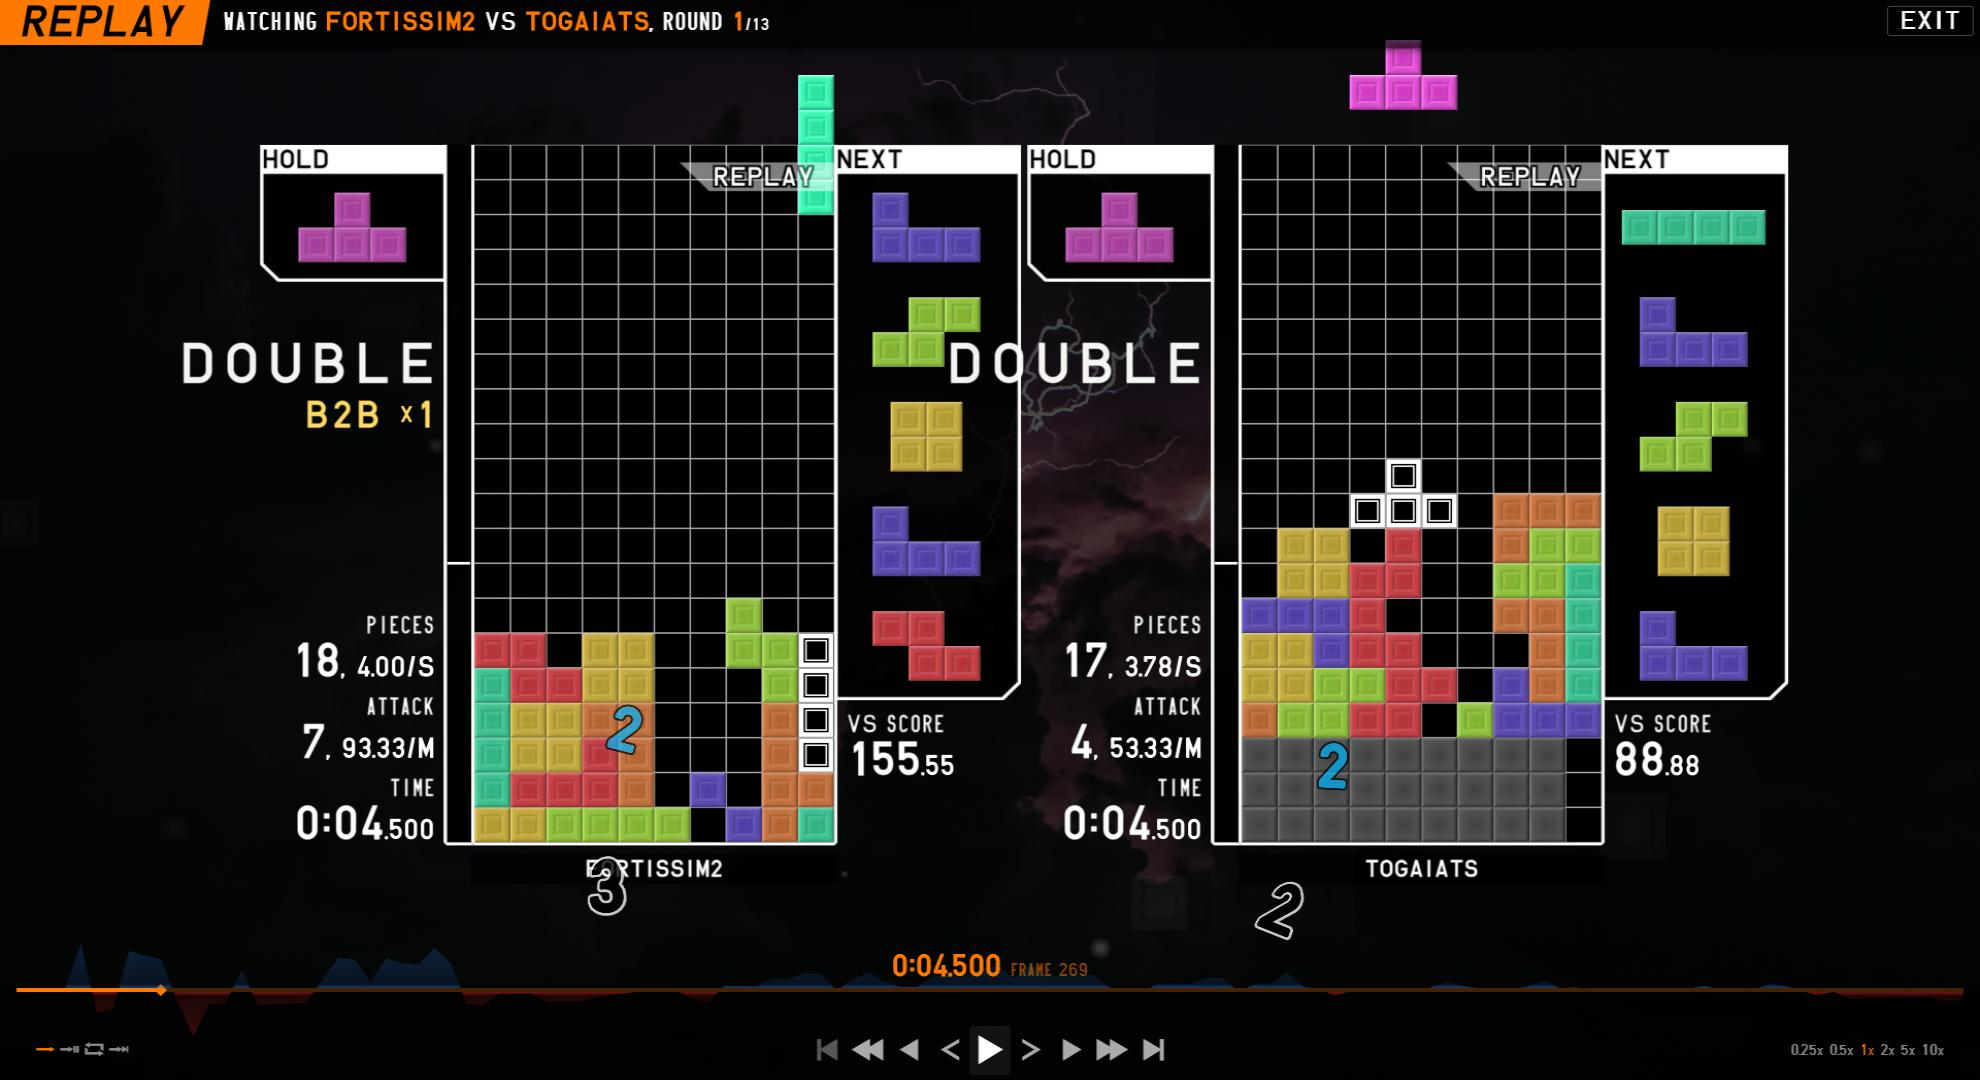tspin: (1424, 601, 1536, 706)
